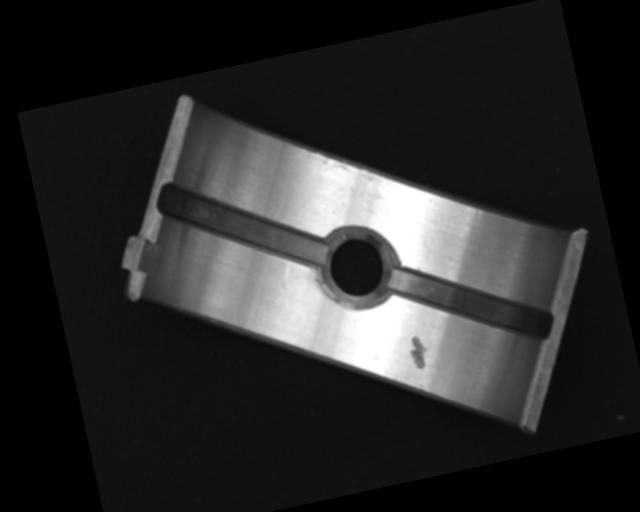bruise: (405, 332, 433, 372)
gap: (155, 152, 328, 297), (385, 240, 556, 370)
hole: (315, 224, 397, 315)
nick: (268, 261, 300, 312)
